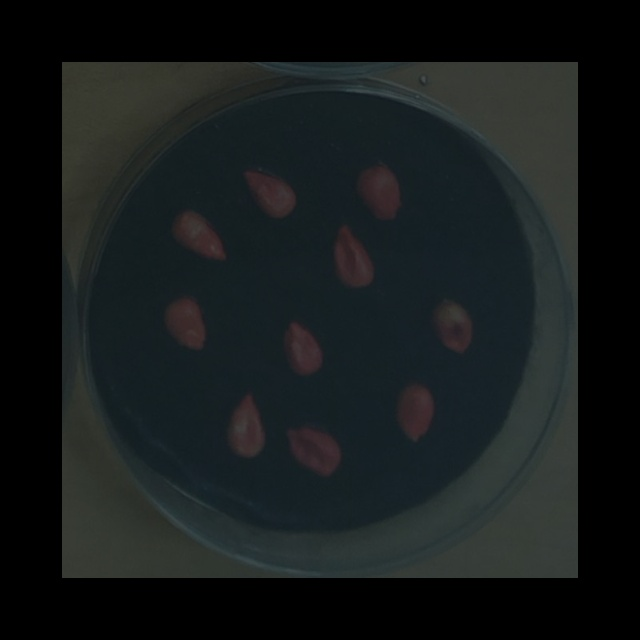Zea mays: (278, 420, 347, 483), (326, 218, 380, 295), (237, 163, 302, 225), (165, 205, 232, 265), (219, 387, 270, 465), (349, 160, 405, 227), (390, 378, 440, 449), (157, 291, 211, 356), (276, 315, 328, 382), (424, 296, 478, 360)
